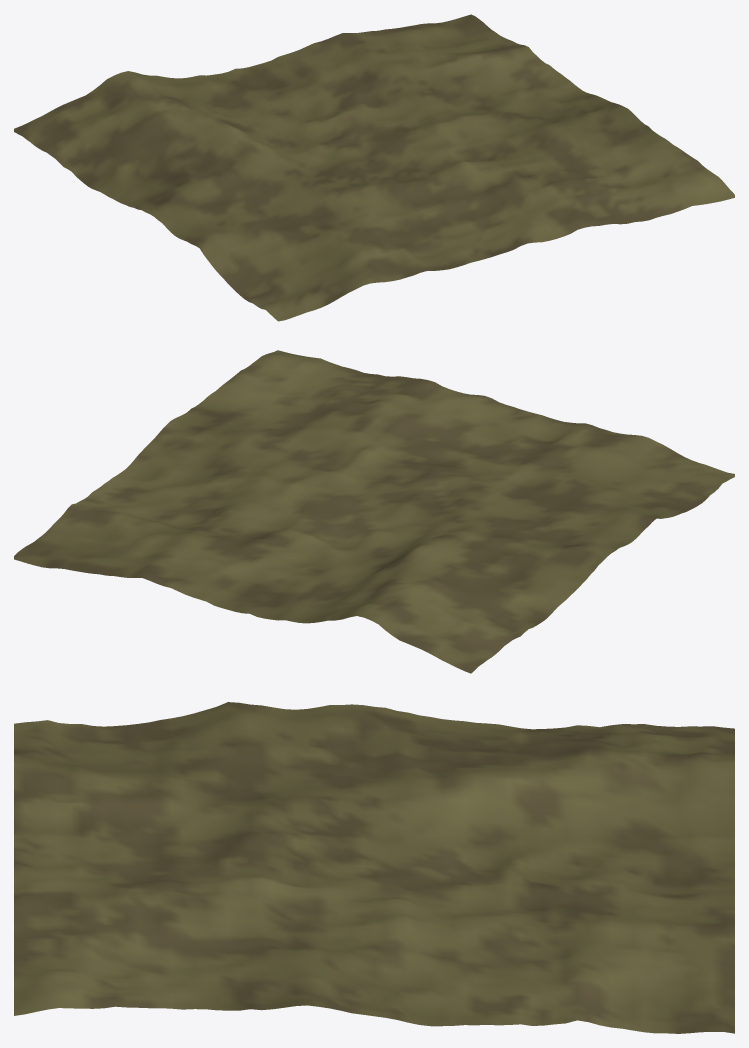
File: land_f_00_05.glb
3 renders of one model, top to bottom at view 1: azimuth 30°, elevation 25°; view 2: azimuth 150°, elevation 25°; view 3: azimuth 270°, elevation 25°, orthographic. The views are drawn at different scales.
Parts seen in each view (by area): view 1: land_f_00_05; view 2: land_f_00_05; view 3: land_f_00_05.
Part boxes in pixels (x1,y1,x2,y2): land_f_00_05: [14, 14, 734, 321]; land_f_00_05: [14, 350, 734, 673]; land_f_00_05: [14, 702, 734, 1033].
Bounding box in the file's own units: 3840 × 270 × 3840.
